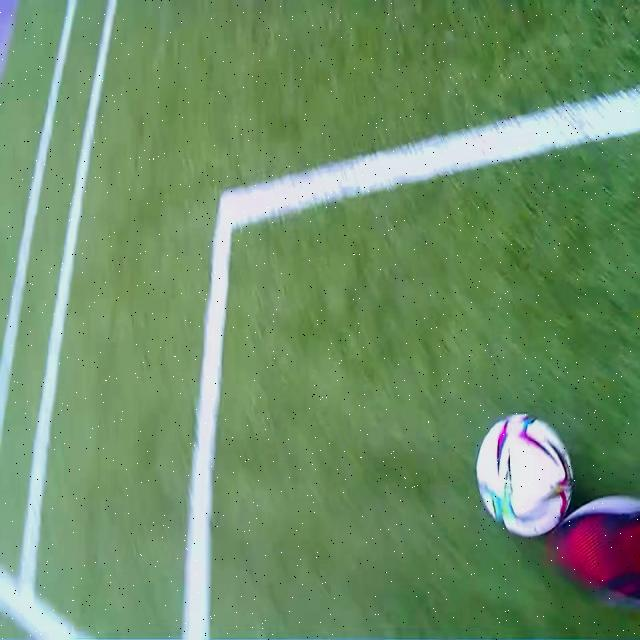ball: (474, 412, 570, 536)
